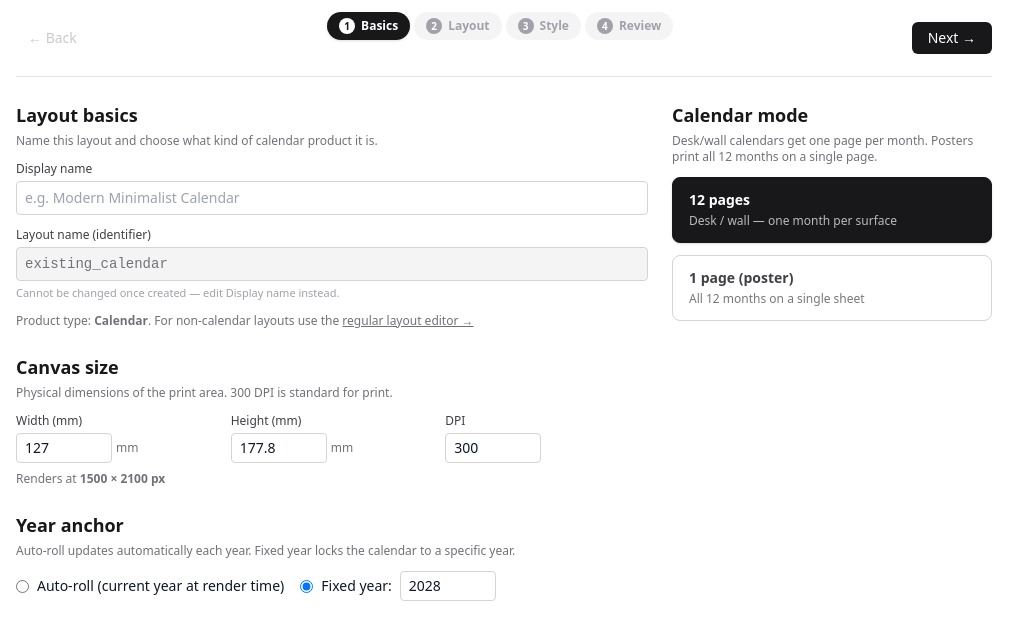
Test: CalendarLayoutEditor — an existing layout opens with the holidays its print uses › shows an absent holidaySource as off, with no preview dots and nothing loaded
Click the button "3 Style" at (543, 26), box [506,12,581,40]
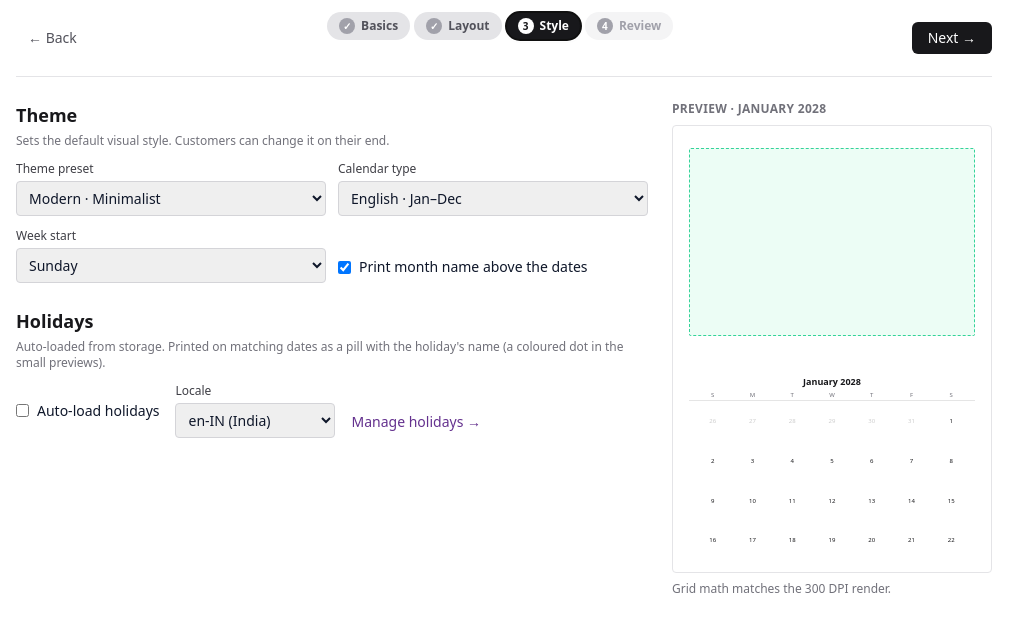
Check: the checkbox with test id "holiday-enabled" is not checked, box [16,404,29,417]
Check: the dropdown with test id "holiday-locale" shows "en-IN (India)", box [176,403,336,438]
